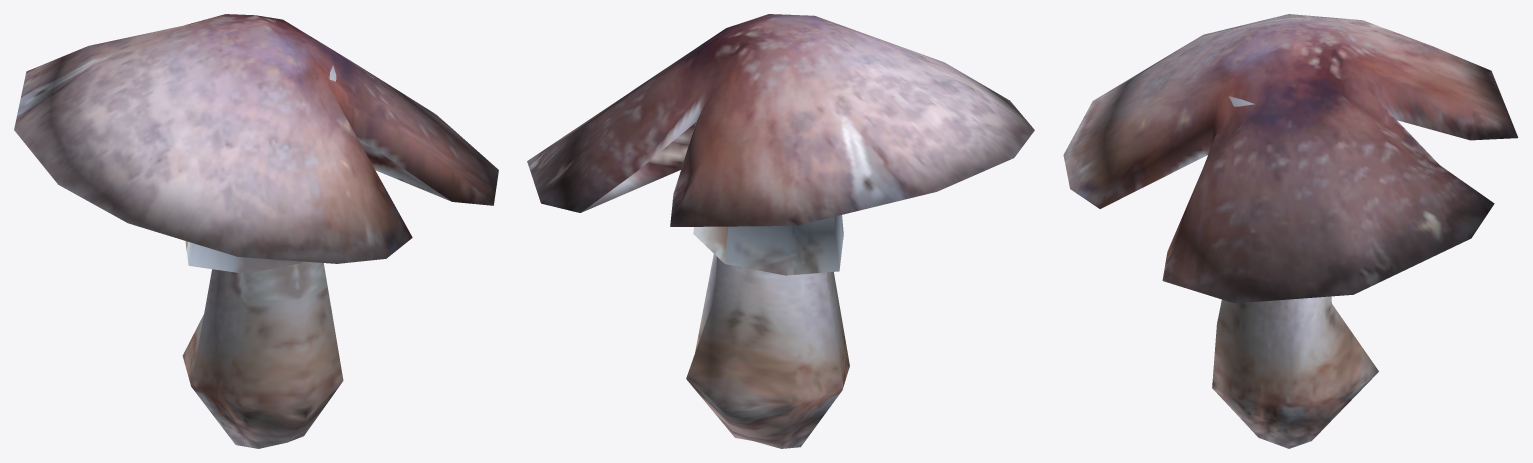
Rendered from SM_TOADSTOOL_15.FBX.
3 renders of one model, left to right at view 1: azimuth 30°, elevation 25°; view 2: azimuth 150°, elevation 25°; view 3: azimuth 270°, elevation 25°, orthographic. The views are drawn at different scales.
Parts seen in each view (by area): view 1: SM_TOADSTOOL_15; view 2: SM_TOADSTOOL_15; view 3: SM_TOADSTOOL_15.
Boxes of the visible parts, box(x1,y1,x2,y2) form: SM_TOADSTOOL_15: box(14, 14, 498, 448); SM_TOADSTOOL_15: box(527, 14, 1034, 448); SM_TOADSTOOL_15: box(1063, 14, 1518, 448).
Bounding box in the file's own units: 17.4 × 16.92 × 16.03.
